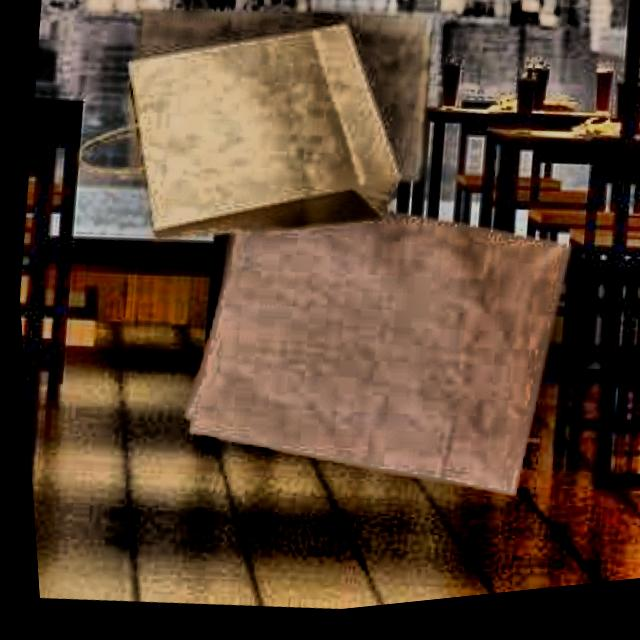Paper-bag: (150, 169, 585, 548), (52, 0, 423, 289), (106, 0, 451, 227)
